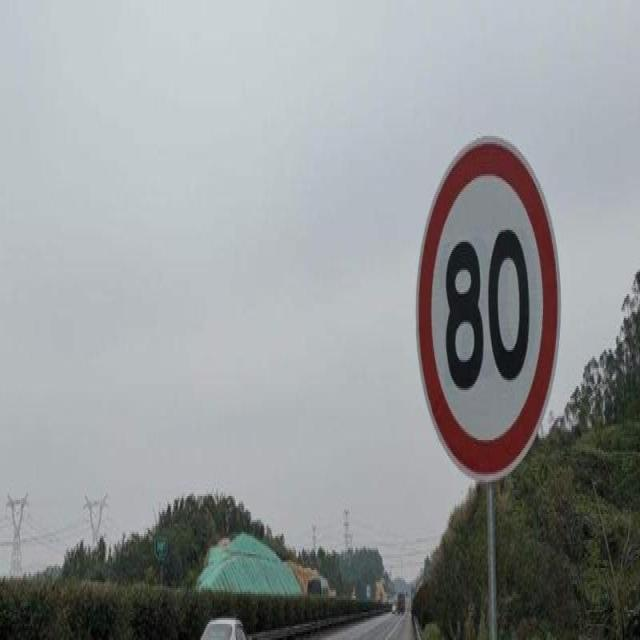speed limit 80: (416, 134, 561, 486)
